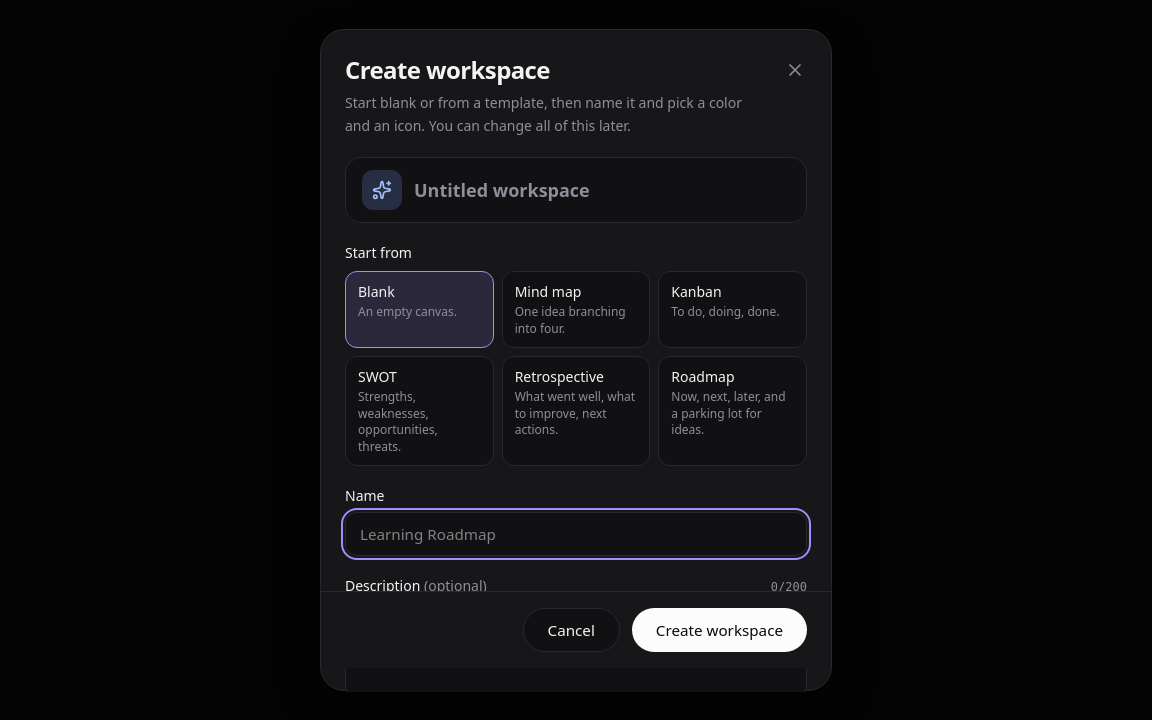
it: WorkspaceFormDialog templates › fills the empty name with the template suggestion and submits the chosen template
Later steps or results of the test are not shown.
Click the radio button named "workspace-template" at (733, 310), box 658,271 -> 807,348
(page scrolled)
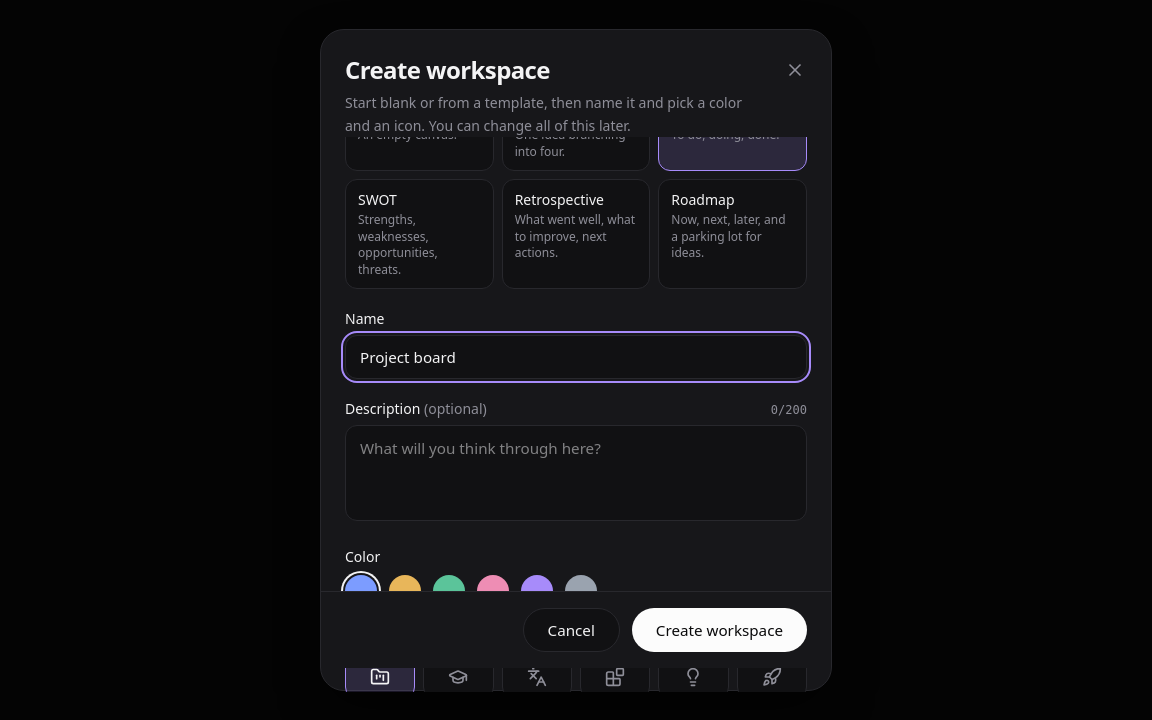
Expected: the field with id "workspace-name" holds "Project board", 345,335 -> 807,379
